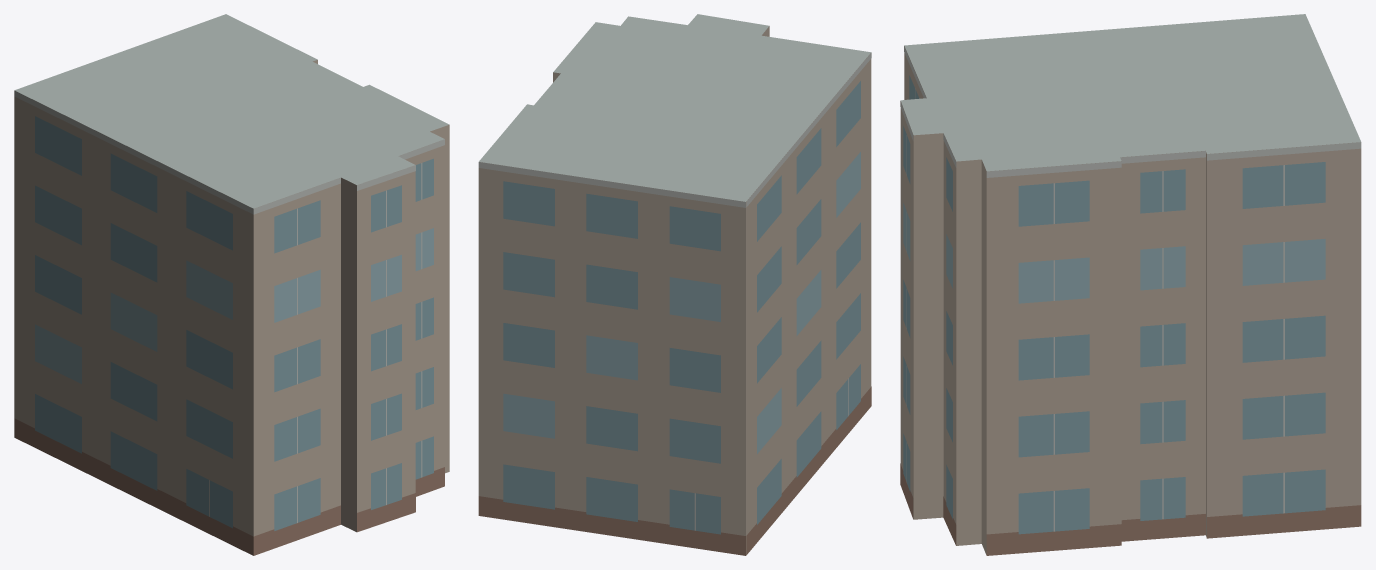
Rendered from survey-upis-32770326.glb.
The picture shows the model from 3 angles, left to right: view 1: azimuth 30°, elevation 25°; view 2: azimuth 150°, elevation 25°; view 3: azimuth 270°, elevation 25°; orthographic projection. The views are drawn at different scales.
Parts seen in each view (by area): view 1: survey-upis-32770326.tmp; view 2: survey-upis-32770326.tmp; view 3: survey-upis-32770326.tmp.
Part boxes in pixels (x1=…): survey-upis-32770326.tmp: x1=14, y1=14, x2=449, y2=555; survey-upis-32770326.tmp: x1=478, y1=14, x2=871, y2=555; survey-upis-32770326.tmp: x1=900, y1=14, x2=1361, y2=555.
Bounding box in the file's own units: 12.48 × 14.2 × 15.44.
